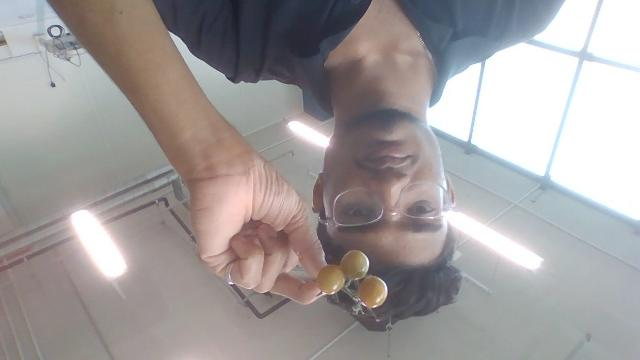Fully Grown: (357, 275, 388, 309), (339, 249, 369, 281), (316, 265, 346, 296)
